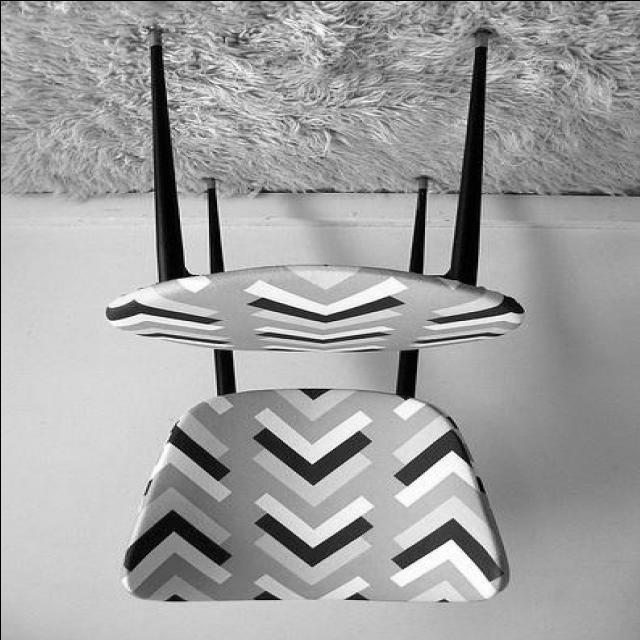chair: (102, 41, 532, 602)
